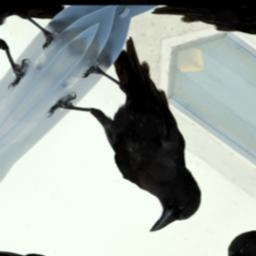Crow: (19, 28, 256, 246)
